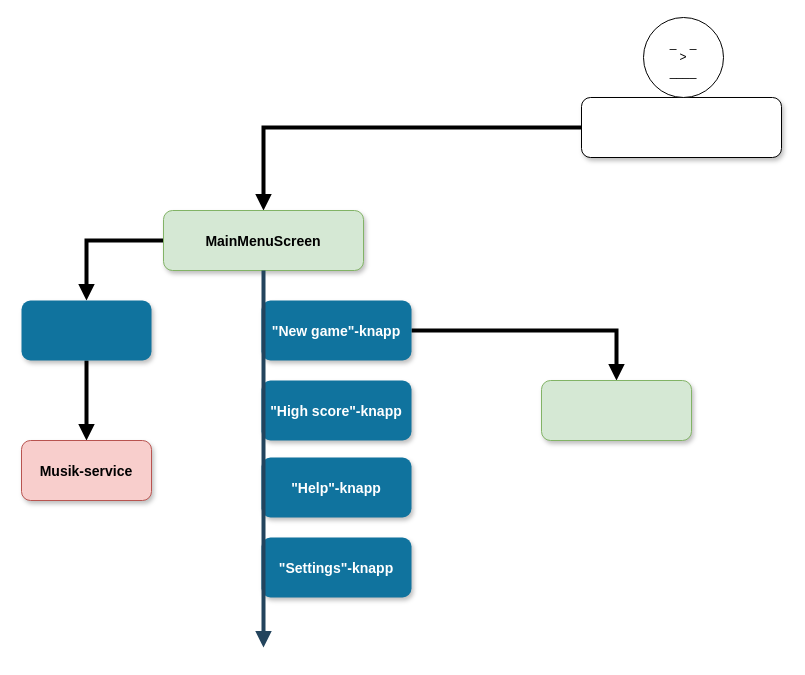
Some shapes in this 805 by 675 pixel diagram are drawn without their labels. Each missing label, with the centre of its shape:
"Bakgrundsmusik" belongs at (x=87, y=331).
"Boat Game" belongs at (x=682, y=128).
"GameScreen" belongs at (x=617, y=412).
